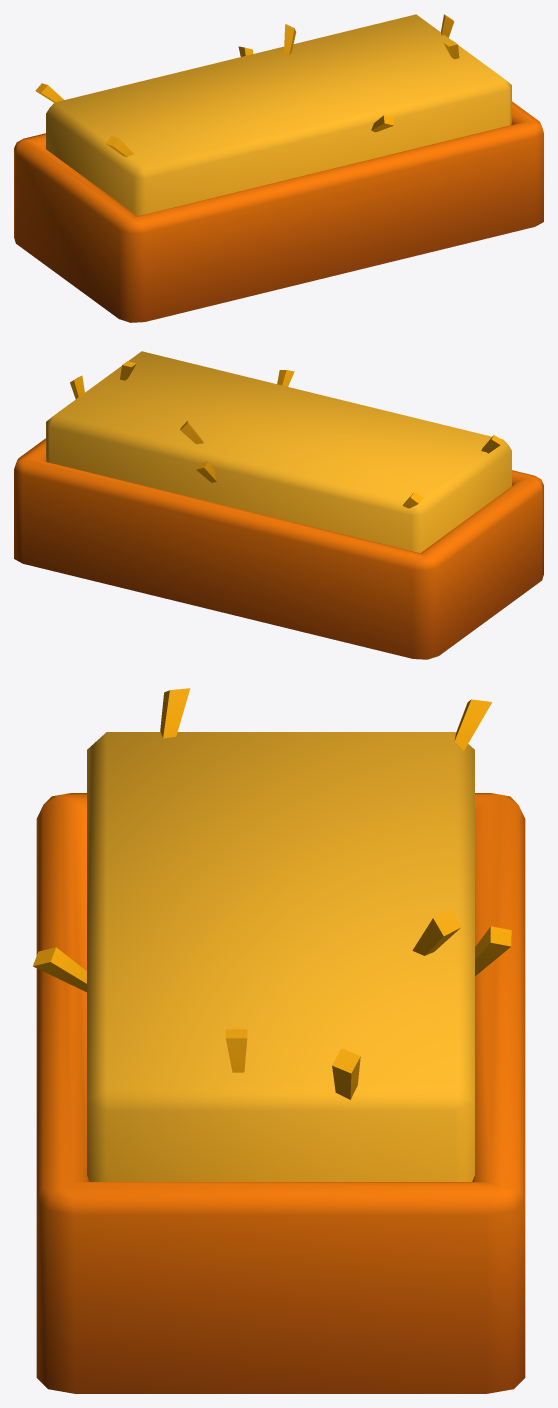
File: Farm_Animal_Props_Feed_Trough_01.fbx
3 renders of one model, top to bottom at view 1: azimuth 30°, elevation 25°; view 2: azimuth 150°, elevation 25°; view 3: azimuth 270°, elevation 25°, orthographic. The views are drawn at different scales.
Visible parts, largest first — view 1: Farm_Animal_Props_Feed_Trough_01; view 2: Farm_Animal_Props_Feed_Trough_01; view 3: Farm_Animal_Props_Feed_Trough_01.
Part boxes in pixels (left/top/right/bottom): Farm_Animal_Props_Feed_Trough_01: left=14, top=14, right=543, bottom=322; Farm_Animal_Props_Feed_Trough_01: left=14, top=351, right=543, bottom=659; Farm_Animal_Props_Feed_Trough_01: left=33, top=688, right=525, bottom=1393.
Bounding box in the file's own units: 200 × 73.66 × 101.
